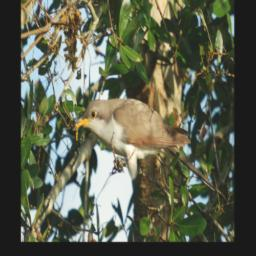Cuckoo: (72, 95, 193, 200)
